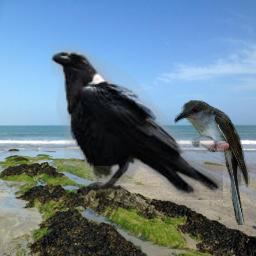Crow: (51, 44, 223, 200)
Cuckoo: (174, 100, 250, 225)
